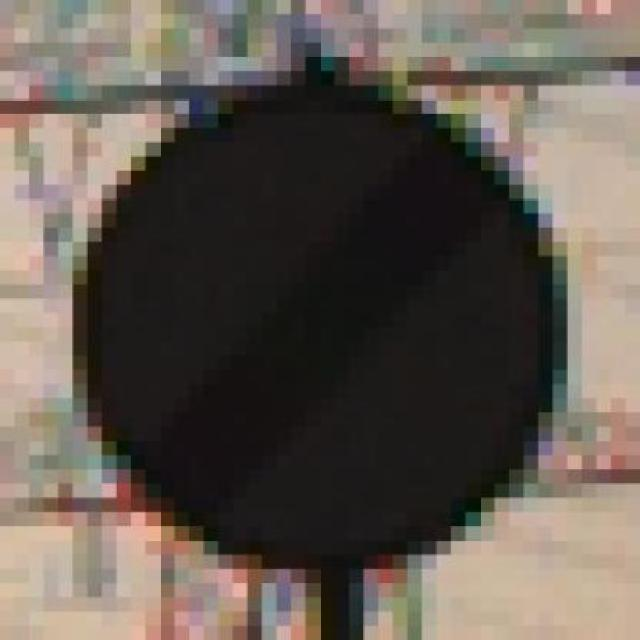End of all speed and passing limits: (72, 57, 597, 583)
